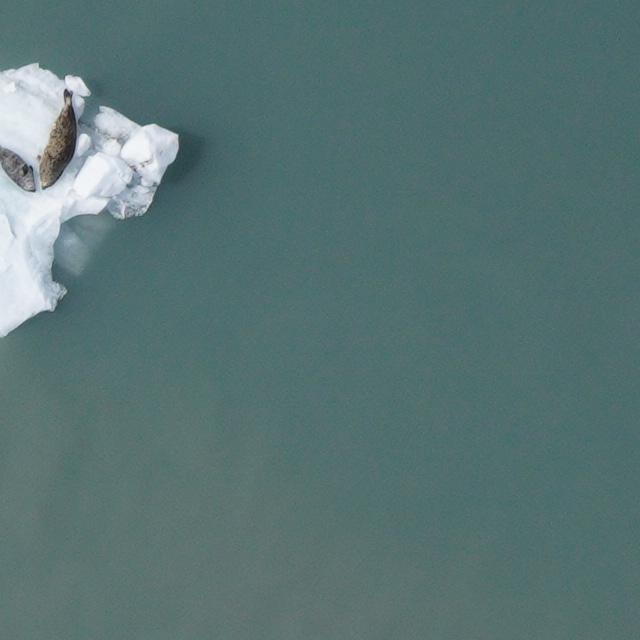seal: (27, 86, 93, 196)
